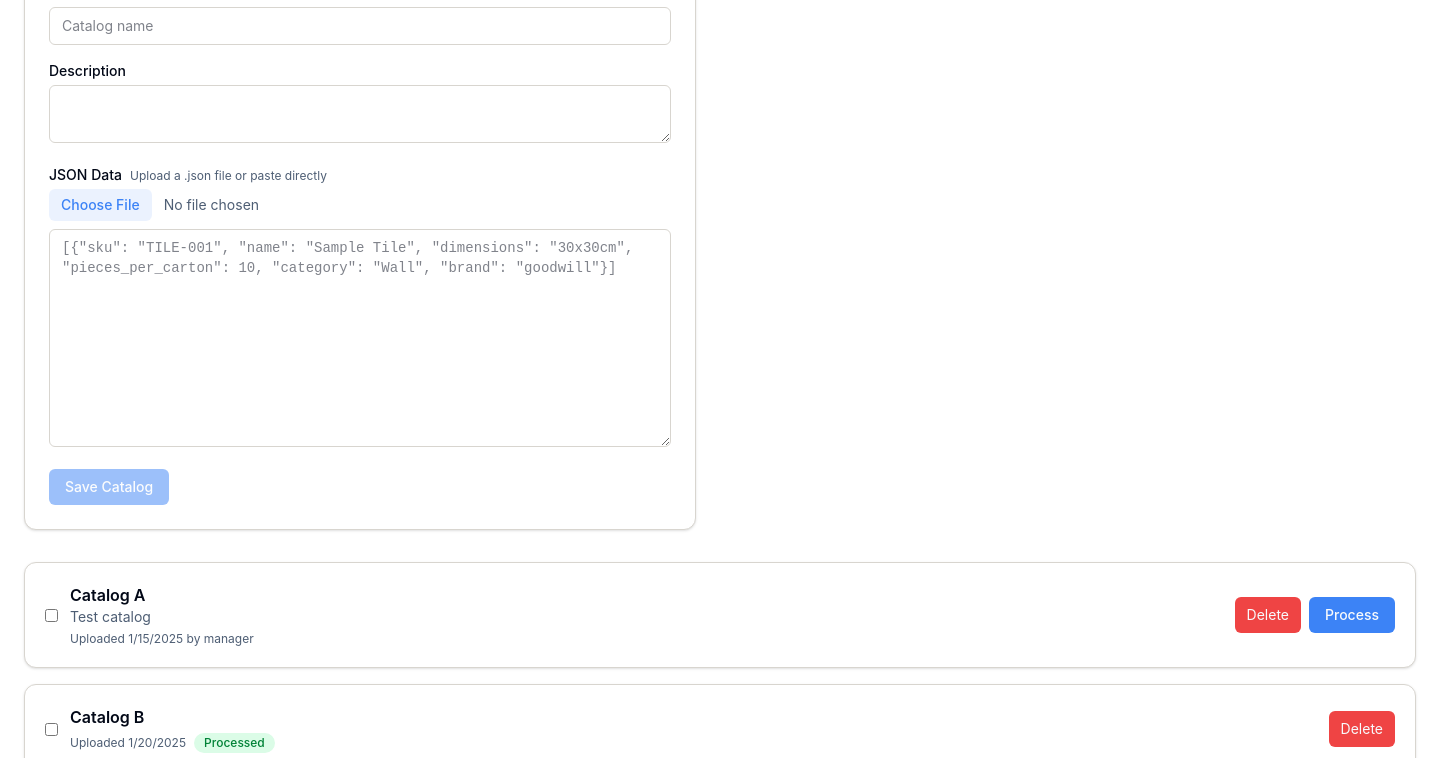
Test case: Catalogs › shows process result after processing
The width and height of the screenshot is (1440, 758).
(page scrolled)
Expected: the heading "Catalog A" is shown, x1=70 y1=585 x2=146 y2=605
Click the button "Process". click: (1352, 615)
box: x1=1309 y1=597 x2=1395 y2=633
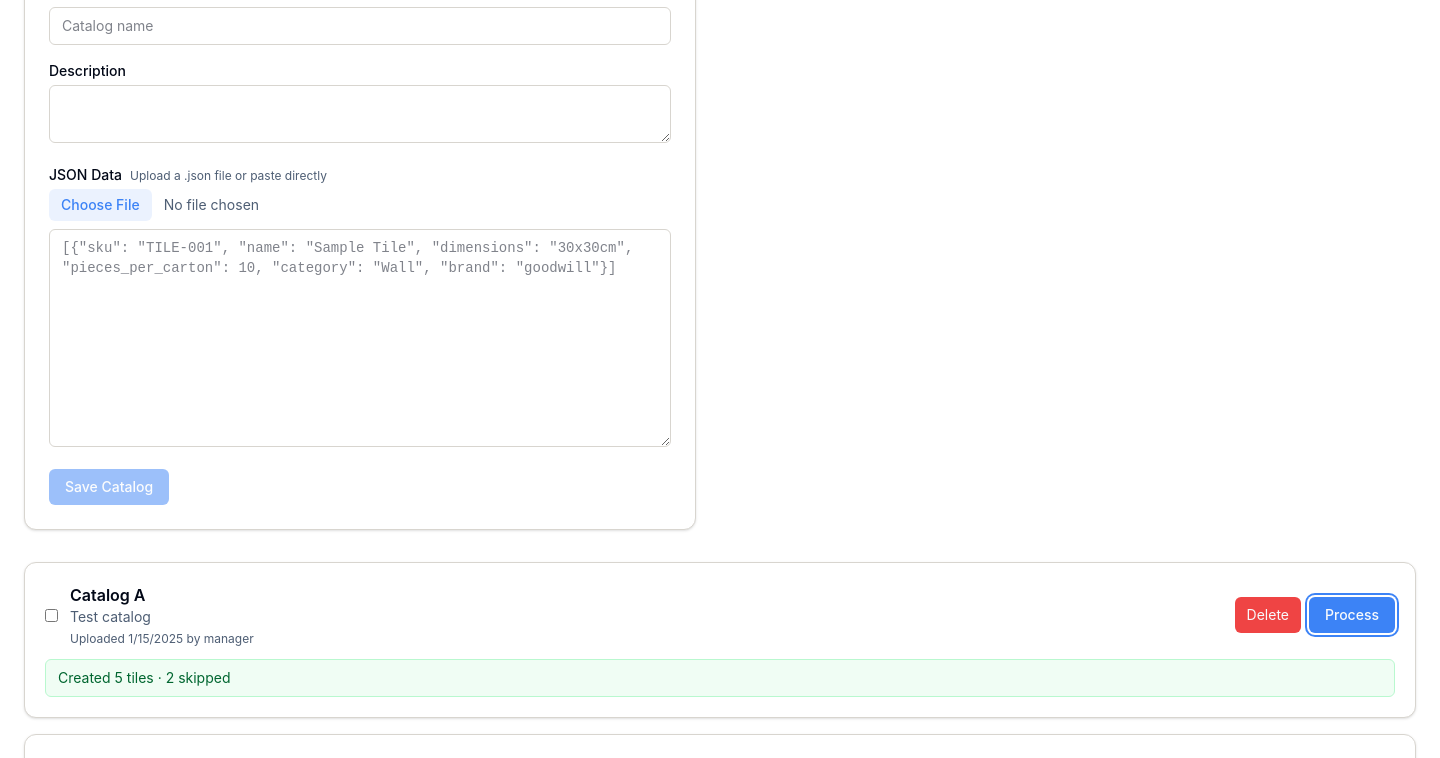
Now the text "Created 5 tiles · 2 skipped" is shown, box x1=45 y1=659 x2=1395 y2=697
